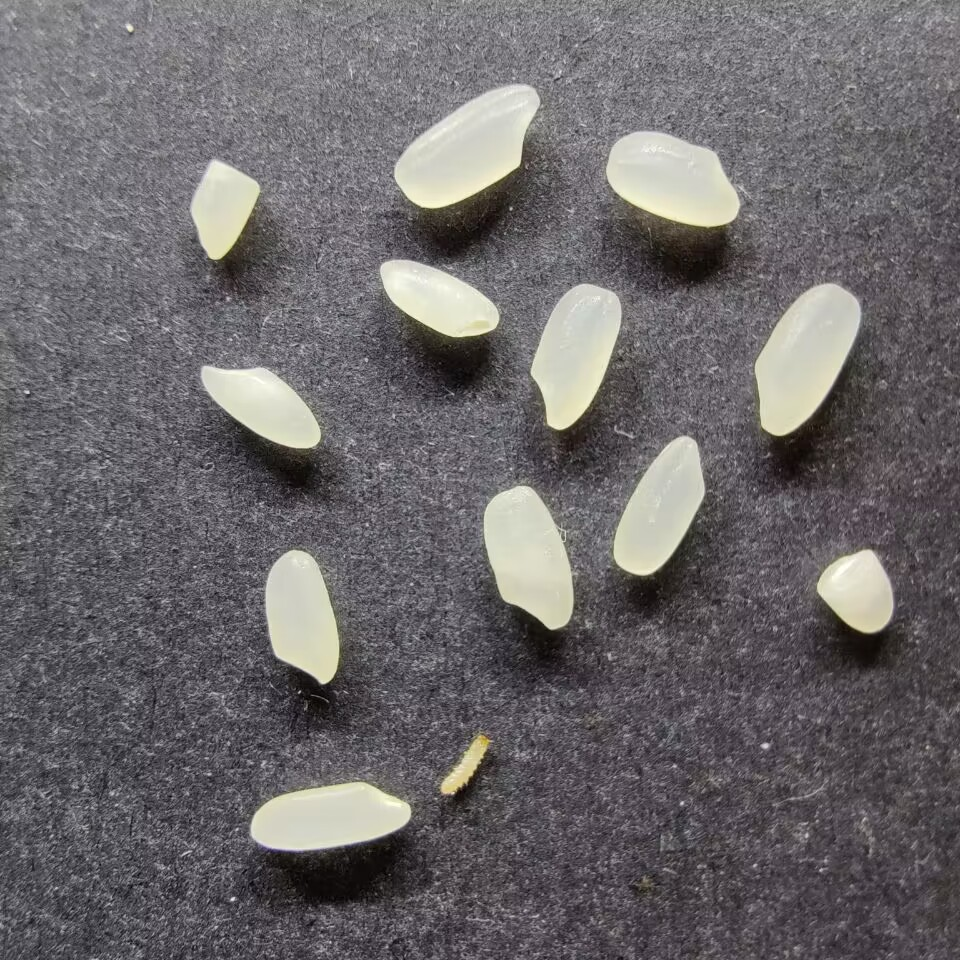broken: (188, 159, 261, 260), (815, 549, 895, 633)
others: (439, 733, 490, 798)
rice: (392, 83, 541, 209), (752, 282, 861, 436), (528, 283, 621, 430), (612, 435, 706, 576), (482, 485, 573, 629), (605, 130, 740, 227), (249, 782, 411, 851), (197, 363, 321, 450), (264, 549, 340, 685), (378, 259, 498, 338)
